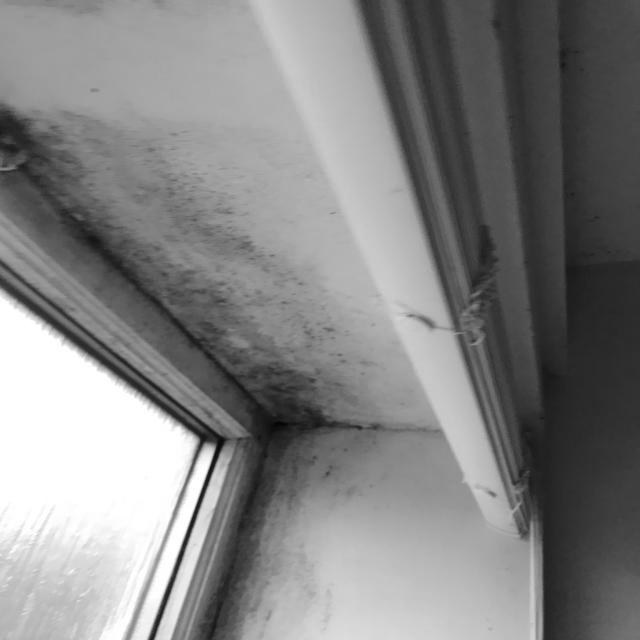stain marks: (0, 0, 386, 640), (559, 0, 639, 265)
